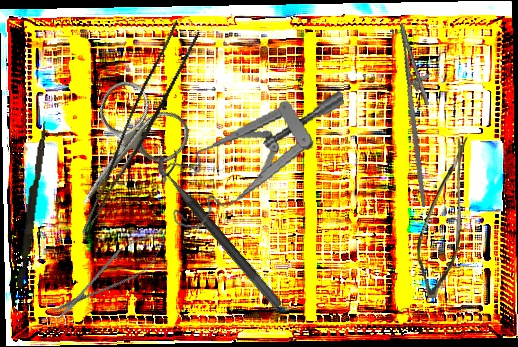Fixation Ring: (150, 145, 296, 311)
Iris Scissors: (43, 72, 199, 233)
Micro Scissor: (44, 222, 174, 331), (417, 135, 468, 298)
Needle Holder: (377, 19, 462, 208)
Pusher: (16, 120, 48, 289)
Speculum: (152, 88, 360, 234)
Tissue Forceps: (81, 16, 201, 248)
